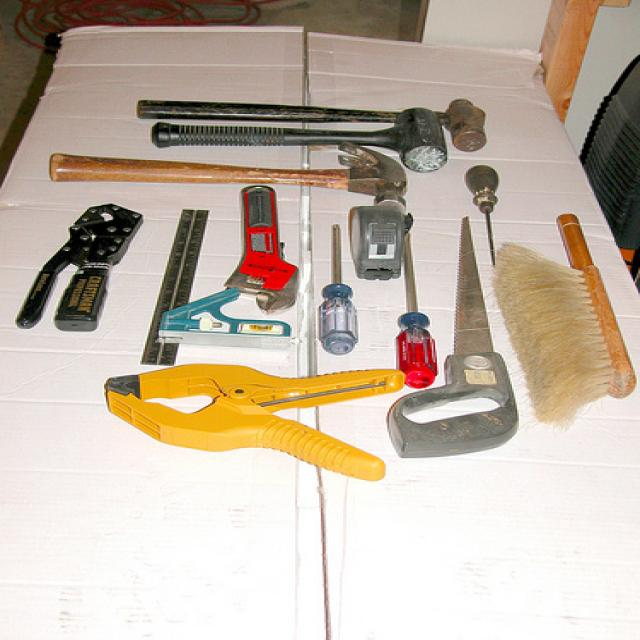hammer: (29, 133, 424, 221), (133, 80, 516, 148)
screw driver: (383, 227, 450, 388), (307, 213, 366, 354)
